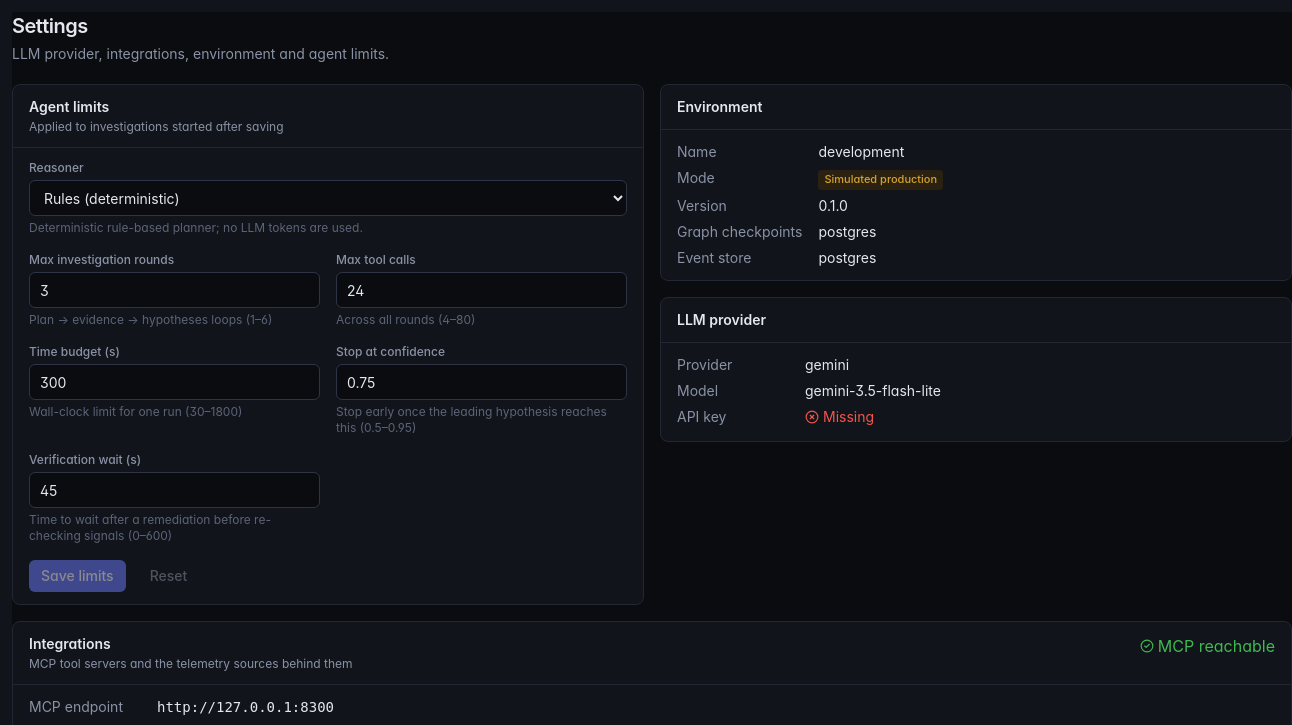
SettingsPage › shows integrations and saves validated agent limits
The image size is (1292, 725).
Later steps or results of the test are not shown.
Expected: the text "MCP reachable" is shown, [1140,634,1275,658]
Expected: the button "Save limits" is disabled, [29,560,126,592]
Replace the text in the number field labelled "Max investigation rounds" with "9" at point(174, 290), box [29,272,320,308]
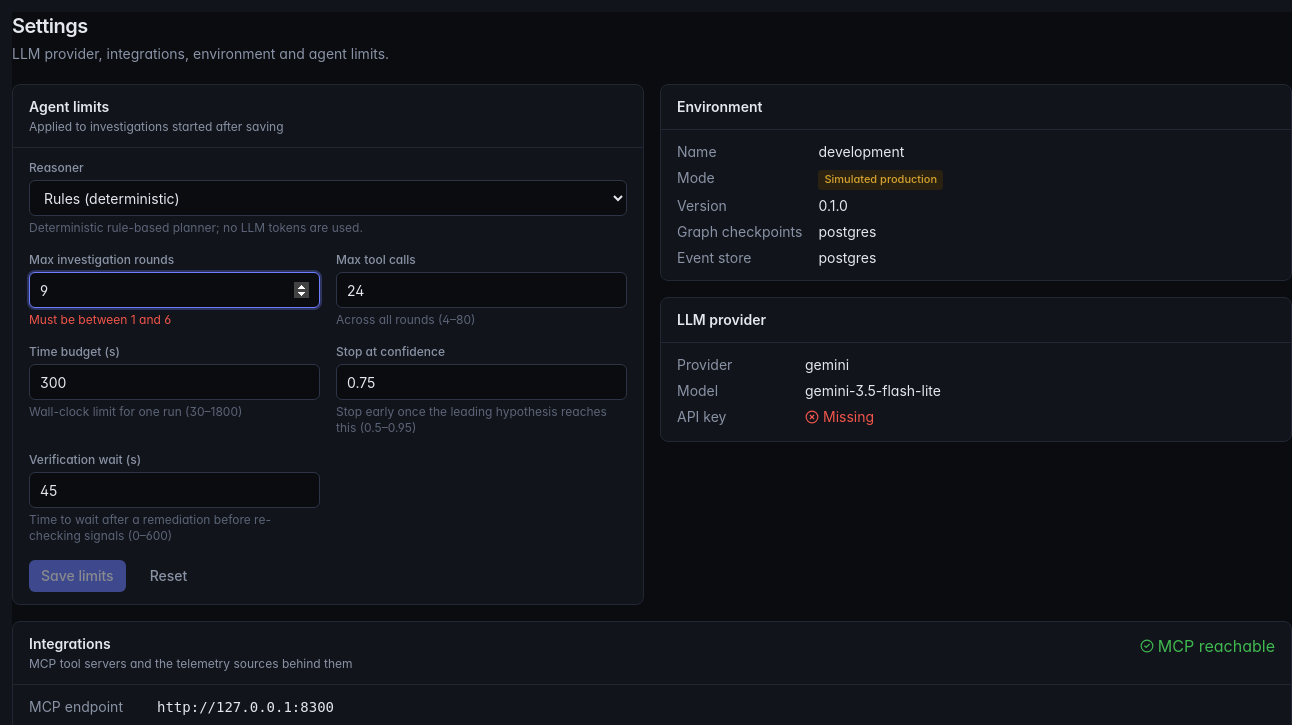
Result: the text "Must be between 1 and 6" is shown at [29,312,171,327]
